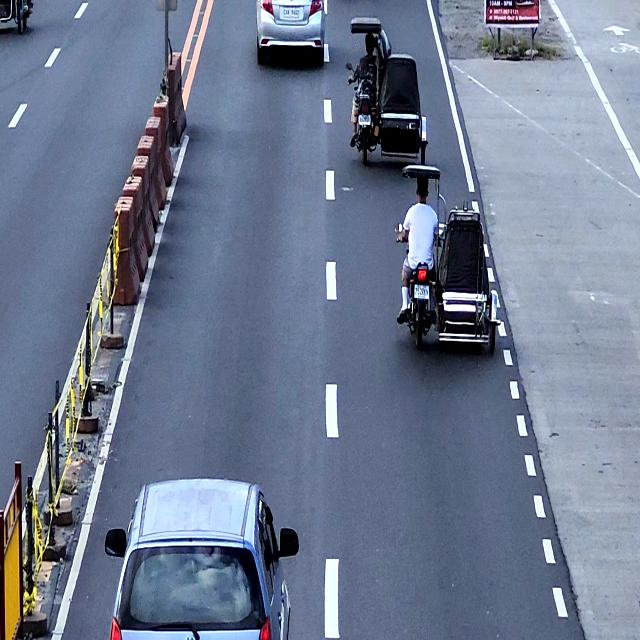Car: (104, 477, 299, 639), (255, 0, 328, 66)
License-Plate: (282, 6, 300, 20), (414, 284, 429, 300), (358, 114, 371, 125)
Tricycle: (395, 166, 500, 350), (346, 16, 429, 166)
